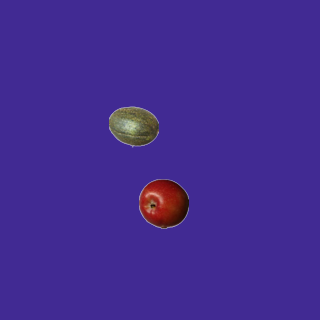Apple Braeburn: (138, 178, 188, 228)
Melon Piel de Sapo: (108, 101, 158, 151)
